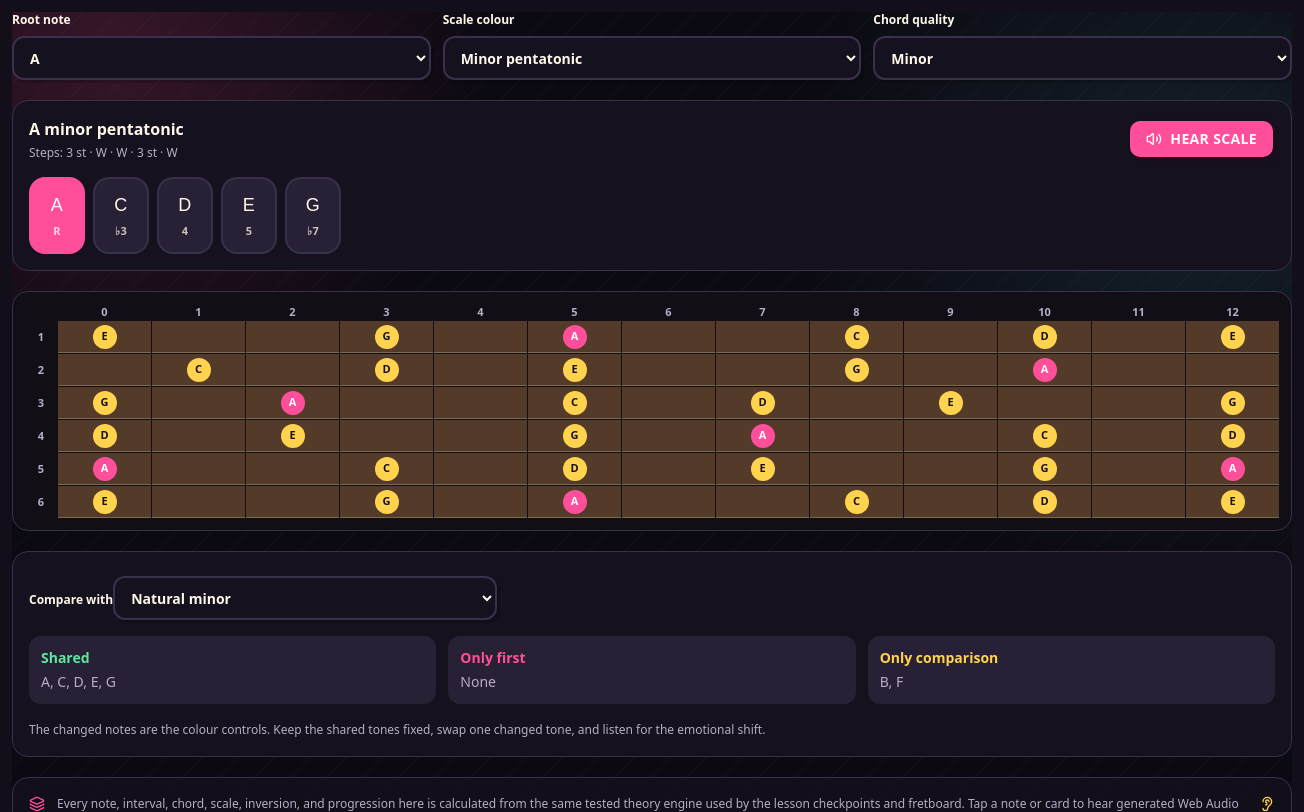
Test case: HarmonyWorkbench › recalculates scale notes and formulas from the selected root
The image size is (1304, 812).
Expected: the text "A minor pentatonic" is shown, [29,117,184,141]
Select "C" in the dropdown labelled "Root note" at (221, 58), box [12,36,431,80]
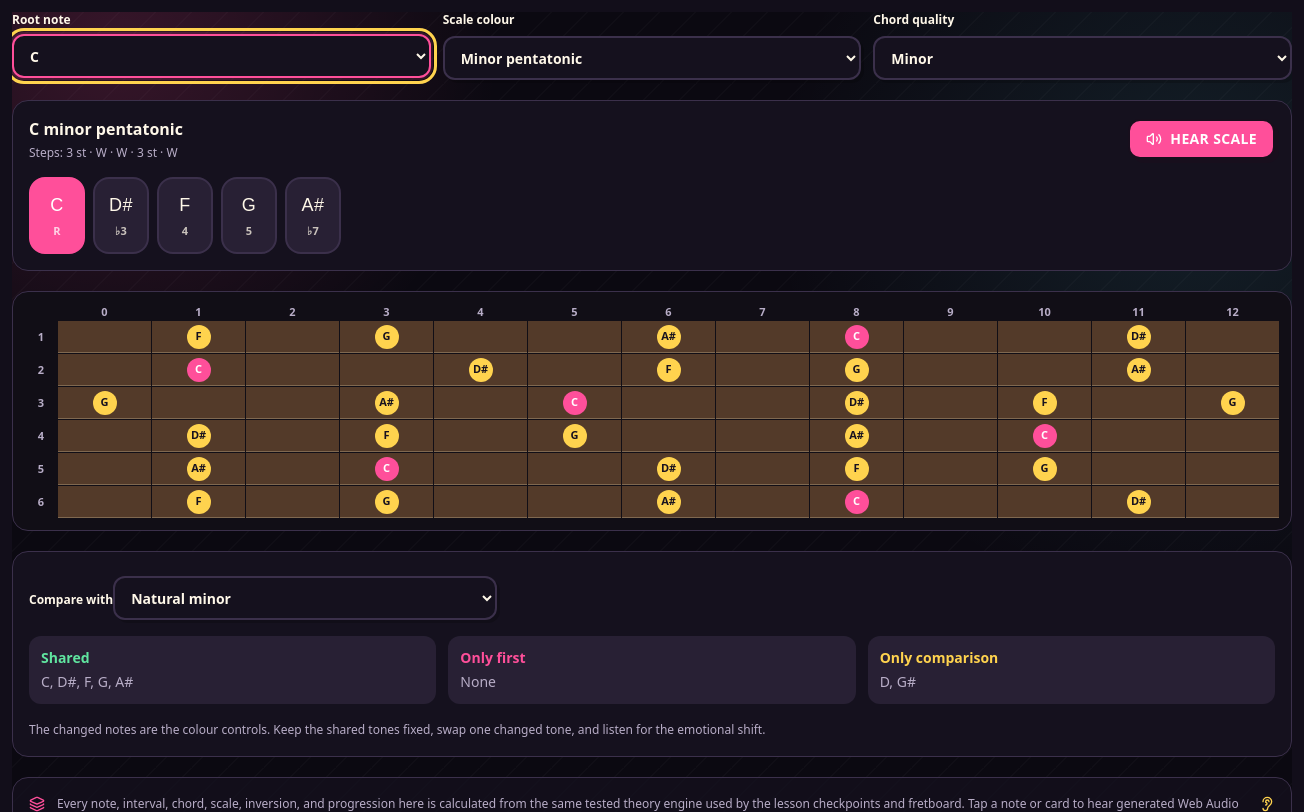
Select "Major" in the dropdown labelled "Scale colour" at (652, 58), box [443,36,861,80]
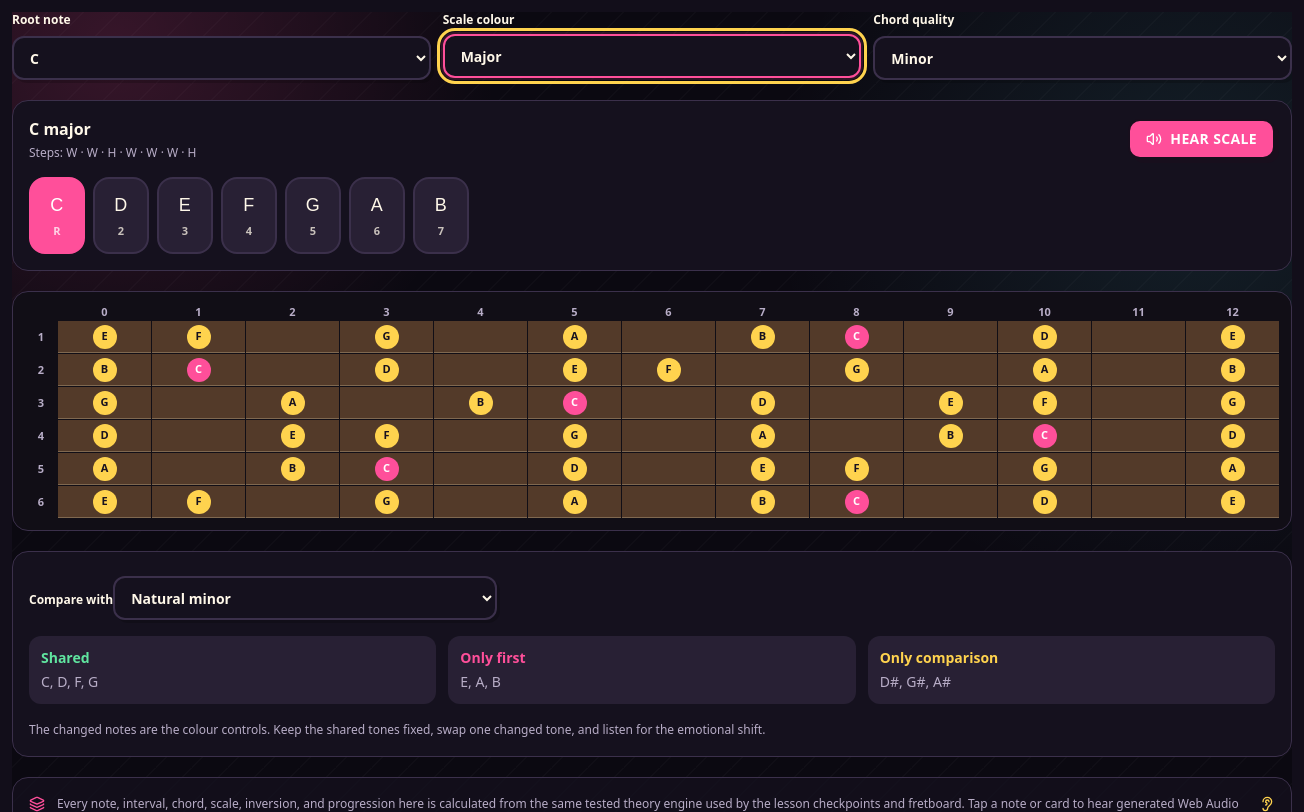
Result: the text "C major" is shown at [29,118,91,140]
Result: the text "Steps: W · W · H · W · W · W · H" is shown at [29,145,196,161]
